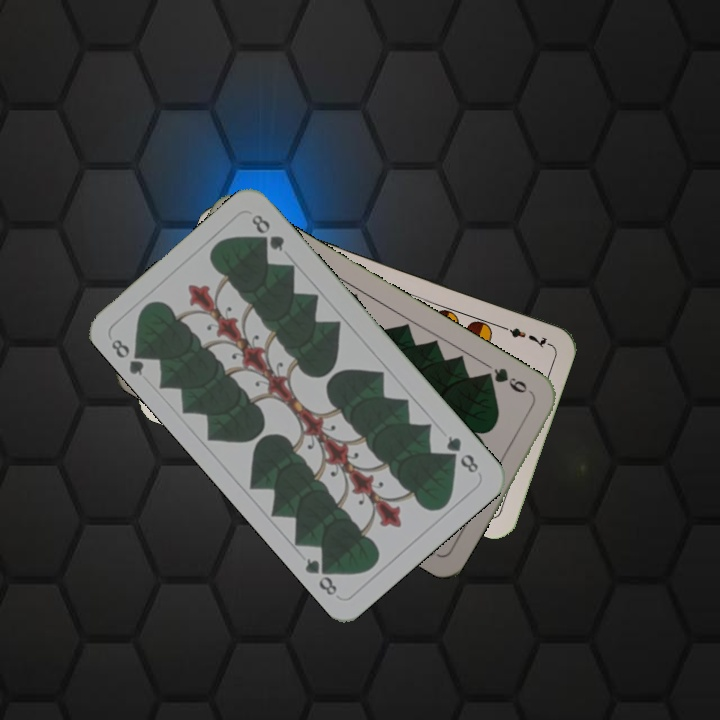E7: (495, 320, 552, 351)
G8: (107, 334, 151, 379), (441, 431, 482, 476)
G9: (479, 363, 537, 399)
